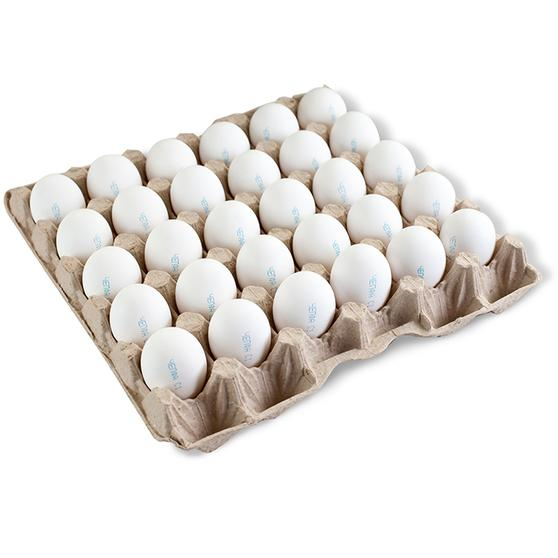egg: (138, 326, 211, 399), (266, 268, 338, 339), (441, 206, 506, 272), (389, 224, 450, 294), (208, 299, 272, 365), (332, 247, 393, 314), (108, 280, 175, 341), (395, 168, 459, 230), (83, 235, 145, 296), (24, 169, 87, 229), (292, 209, 356, 268), (342, 194, 408, 251), (175, 257, 239, 315), (227, 136, 283, 200), (208, 193, 263, 256), (239, 236, 296, 296), (59, 209, 114, 262)
